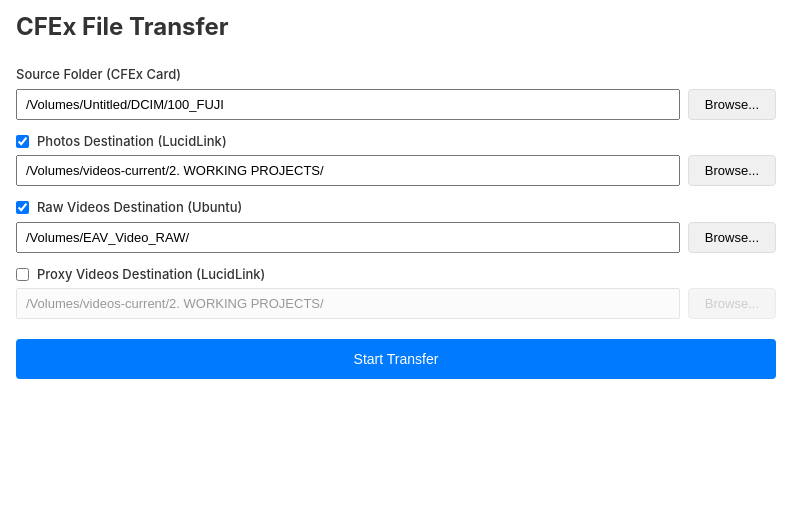
CfexTransferWindow › Progress Updates (IPC Events) › displays progress updates from IPC events
The width and height of the screenshot is (793, 506).
// Start transfer (triggers context state change)
Click the button "Start Transfer" at (396, 359), box [16,339,776,379]
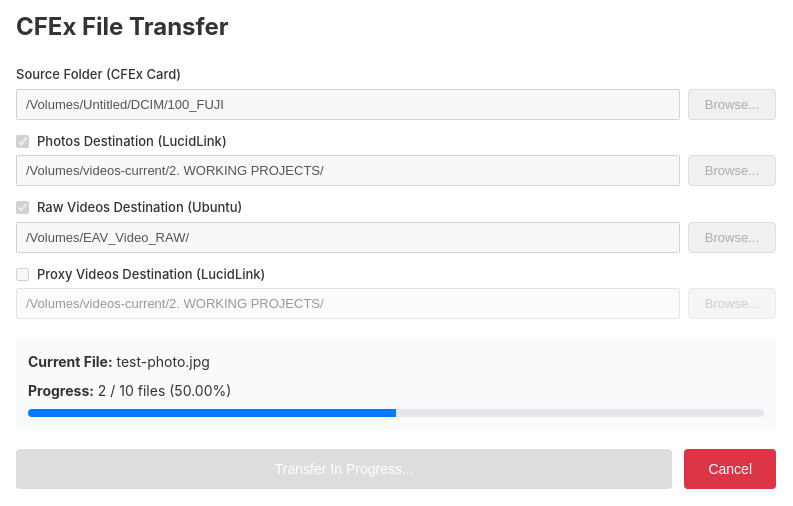
Now the text "Current File: test-photo.jpg" is shown, box [28,353,210,370]
Now the text "Progress: 2 / 10 files (50.00%)" is shown, box [28,382,231,399]
